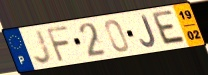0: (104, 18, 130, 54)
2: (78, 21, 108, 59)
E: (151, 9, 189, 47)
F: (44, 25, 73, 64)
J: (32, 29, 54, 66), (138, 14, 157, 48)
